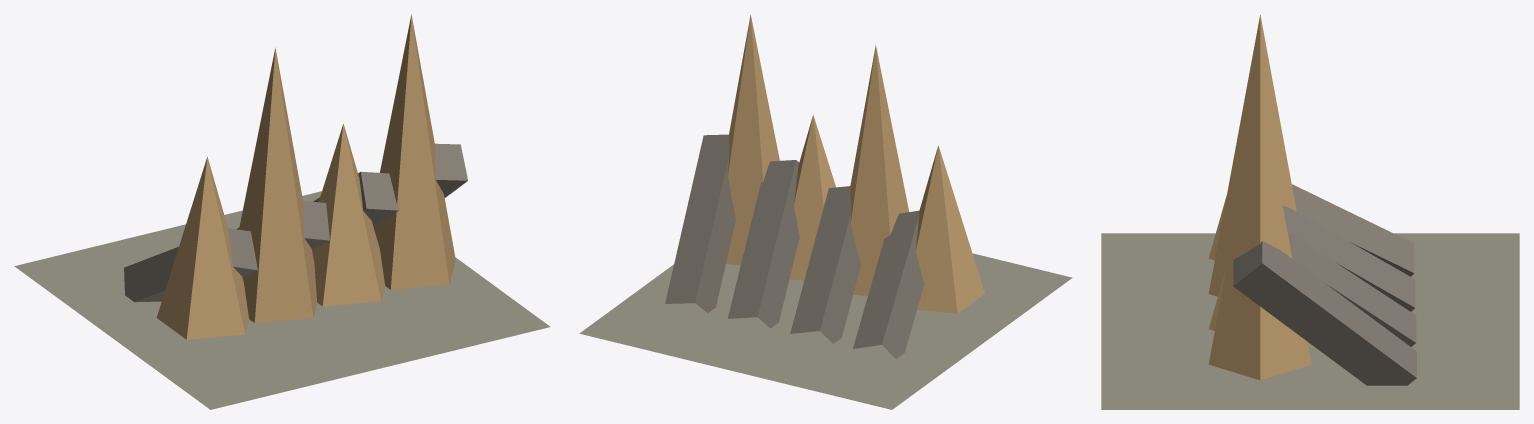
The picture shows the model from 3 angles, left to right: view 1: azimuth 30°, elevation 25°; view 2: azimuth 150°, elevation 25°; view 3: azimuth 270°, elevation 25°; orthographic projection. The views are drawn at different scales.
Parts seen in each view (by area): view 1: Near; view 2: Near; view 3: Near.
Boxes of the visible parts, <box> form: Near: <box>14,14,550,409</box>; Near: <box>579,15,1072,409</box>; Near: <box>1101,15,1519,409</box>.
Bounding box in the file's own units: 1 × 0.826 × 1.
